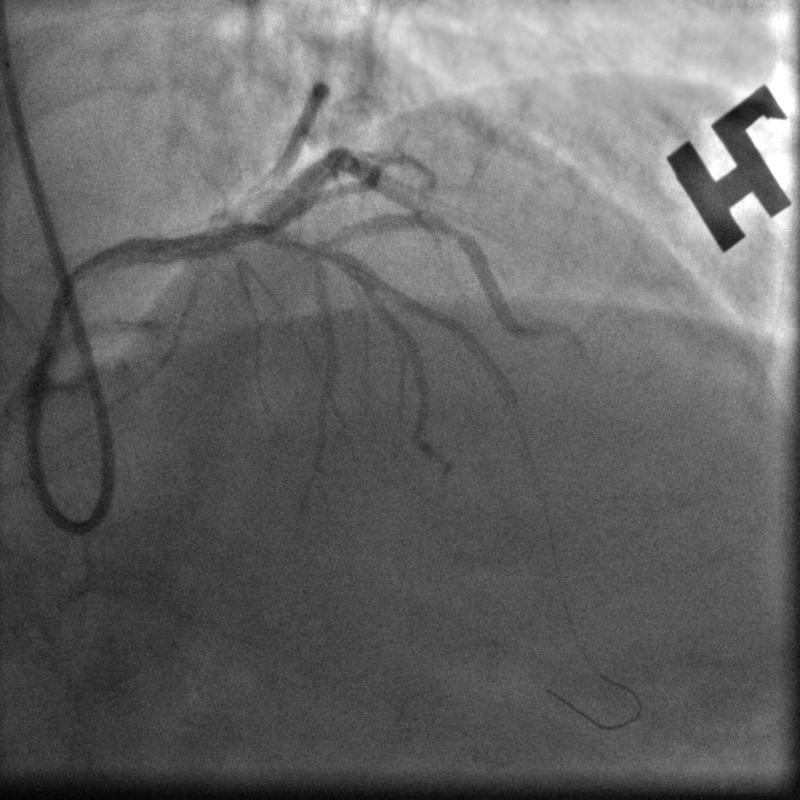Stenosis: (434, 212, 469, 249)
